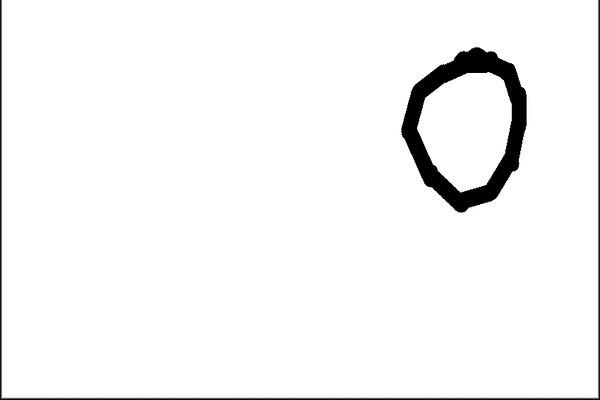O: (391, 37, 532, 217)
